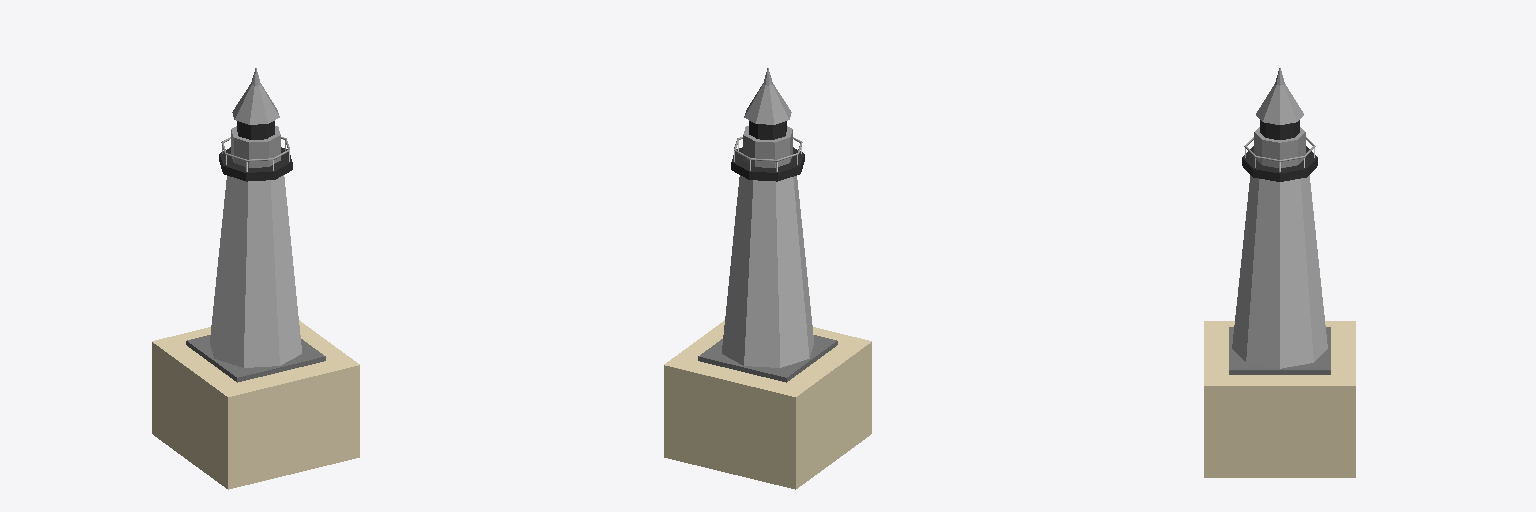
Rendered from lighthouse.obj.
3 views of the same model, side by side, from view 1: azimuth 30°, elevation 25°; view 2: azimuth 150°, elevation 25°; view 3: azimuth 270°, elevation 25° (orthographic).
Parts seen in each view (by area): view 1: ?????_1, ??????_1, ?????, ??????1_1, ??????1, ??????, ??????2_1; view 2: ?????_1, ??????_1, ?????, ??????1_1, ??????1, ??????, ??????2_1; view 3: ?????_1, ??????_1, ?????, ??????1_1, ??????1, ??????, ??????2_1.
Part boxes in pixels (bbox=[...]): ?????_1: bbox=[152, 320, 359, 489]; ??????_1: bbox=[210, 175, 301, 367]; ?????: bbox=[186, 335, 325, 382]; ??????1_1: bbox=[231, 126, 280, 167]; ??????1: bbox=[232, 84, 279, 124]; ??????: bbox=[219, 147, 292, 181]; ??????2_1: bbox=[237, 121, 274, 139]; ?????_1: bbox=[664, 320, 871, 489]; ??????_1: bbox=[722, 175, 813, 367]; ?????: bbox=[698, 335, 837, 382]; ??????1_1: bbox=[743, 126, 792, 167]; ??????1: bbox=[744, 84, 791, 124]; ??????: bbox=[731, 147, 804, 181]; ??????2_1: bbox=[749, 121, 786, 139]; ?????_1: bbox=[1204, 321, 1355, 477]; ??????_1: bbox=[1232, 175, 1327, 368]; ?????: bbox=[1229, 327, 1330, 374]; ??????1_1: bbox=[1254, 127, 1305, 167]; ??????1: bbox=[1256, 84, 1303, 124]; ??????: bbox=[1242, 146, 1317, 181]; ??????2_1: bbox=[1260, 120, 1299, 139].
Size of the model in its own units: 3 by 8.21 by 3.